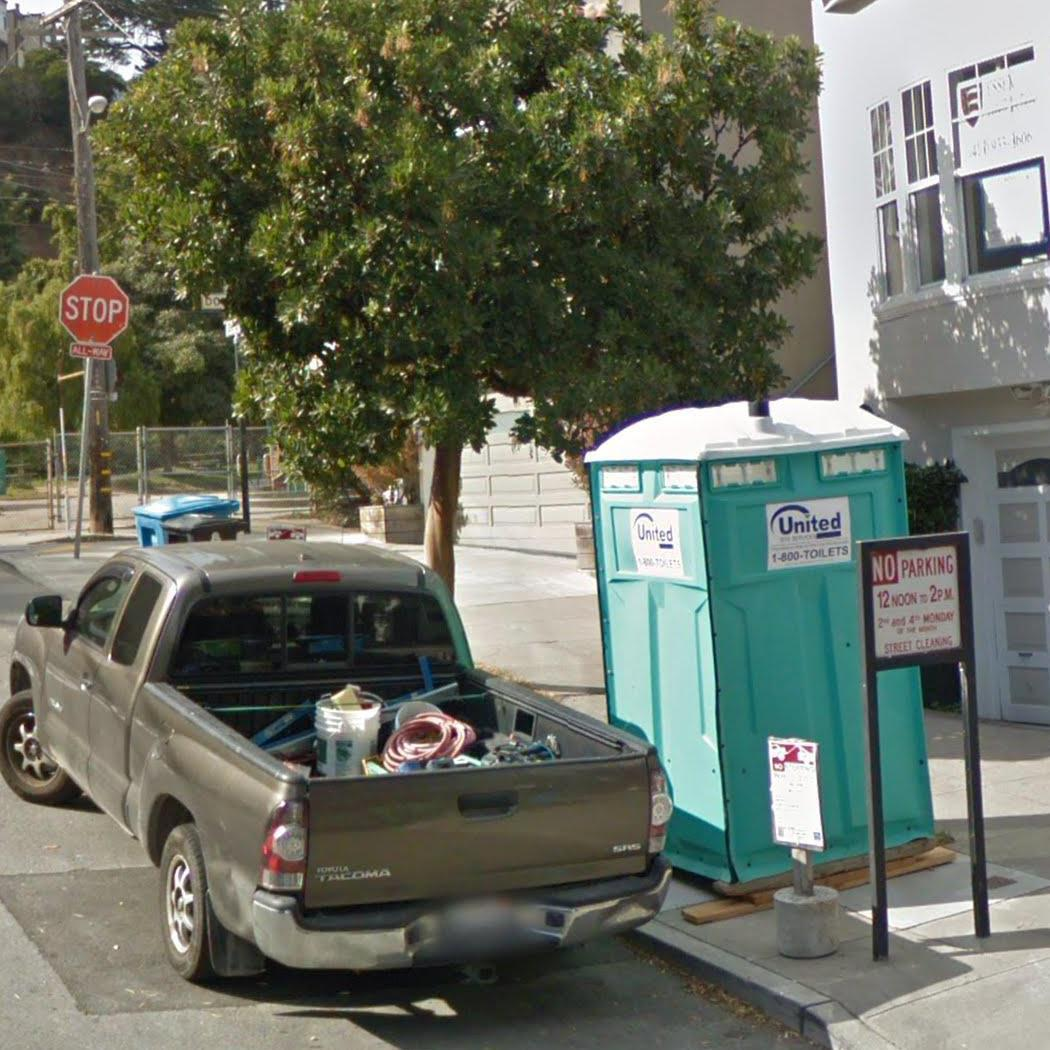No Parking: (860, 542, 967, 665)
